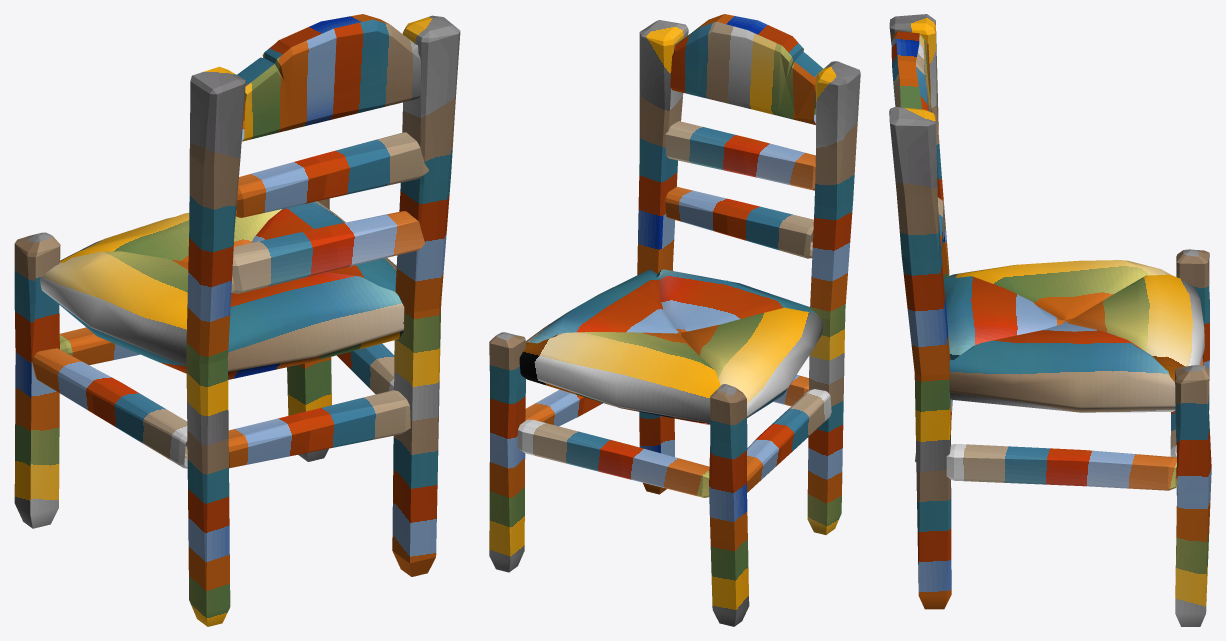
The model's file is P_AP31BedroomChair.glb.
3 views of the same model, side by side, from view 1: azimuth 30°, elevation 25°; view 2: azimuth 150°, elevation 25°; view 3: azimuth 270°, elevation 25° (orthographic). The views are drawn at different scales.
Parts seen in each view (by area): view 1: P_AP31BedroomChair; view 2: P_AP31BedroomChair; view 3: P_AP31BedroomChair.
Part boxes in pixels (x1,y1,x2,y2): P_AP31BedroomChair: (14,14,460,626); P_AP31BedroomChair: (489,14,860,626); P_AP31BedroomChair: (889,14,1211,626).
Bounding box in the file's own units: 0.4578 × 0.8451 × 0.4751.
Materials: 1 (1 with a texture image).
